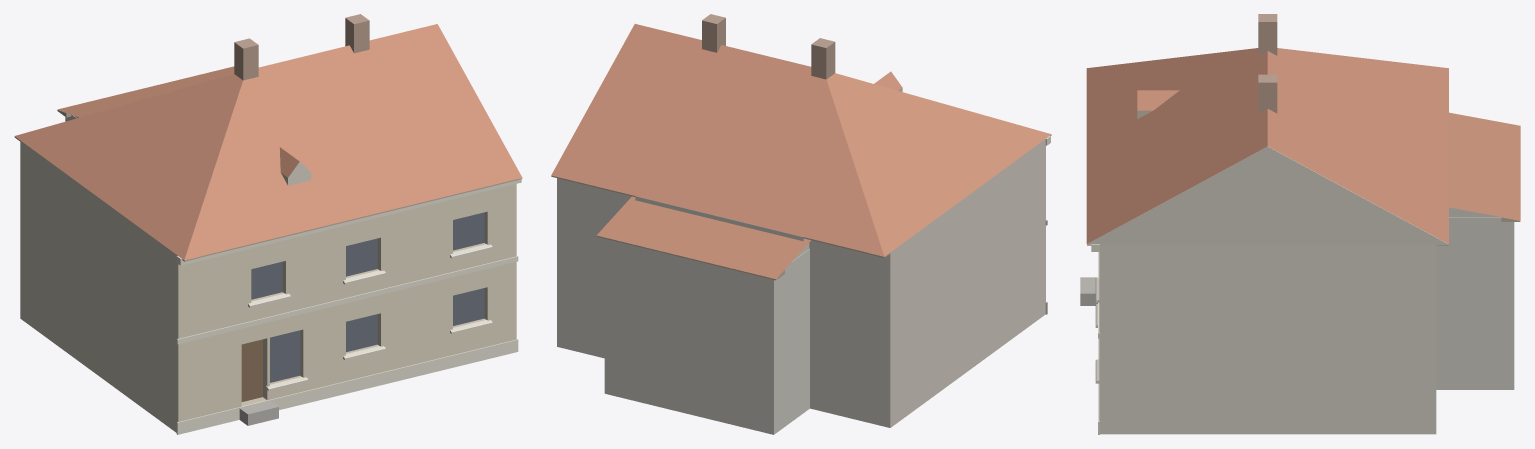
3 views of the same model, side by side, from view 1: azimuth 30°, elevation 25°; view 2: azimuth 150°, elevation 25°; view 3: azimuth 270°, elevation 25° (orthographic). The views are drawn at different scales.
Visible parts, largest first — view 1: CP_1833_Masonry, CP_1833_Roof, CP_1833_Cornice_plinth_0, CP_1833_Cornice_band_0, CP_1833_WingRoof_Rear_Stair, CP_1833_Cornice_main_0, CP_1833_Chimney_0, CP_1833_Chimney_1, CP_1833_Dormer_V1, CP_1833_Steps, CP_1833_Roof_EaveClosure_0; view 2: CP_1833_Roof, CP_1833_Masonry, CP_1833_Rear_Stair, CP_1833_WingRoof_Rear_Stair, CP_1833_Chimney_0, CP_1833_AtticClosure_1, CP_1833_Chimney_1; view 3: CP_1833_Masonry, CP_1833_Roof, CP_1833_Gable_R_gable, CP_1833_Rear_Stair, CP_1833_WingRoof_Rear_Stair, CP_1833_Chimney_0, CP_1833_Chimney_1, CP_1833_Dormer_V1, CP_1833_Steps.
Boxes of the visible parts, x1,y1,x2,y2 form: CP_1833_Masonry: (20, 140, 516, 432); CP_1833_Roof: (15, 24, 522, 260); CP_1833_Cornice_plinth_0: (176, 339, 518, 434); CP_1833_Cornice_band_0: (176, 256, 518, 344); CP_1833_WingRoof_Rear_Stair: (57, 66, 234, 117); CP_1833_Cornice_main_0: (176, 179, 521, 265); CP_1833_Chimney_0: (234, 38, 258, 80); CP_1833_Chimney_1: (345, 14, 369, 53); CP_1833_Dormer_V1: (279, 147, 311, 185); CP_1833_Steps: (239, 400, 278, 425); CP_1833_Roof_EaveClosure_0: (182, 178, 521, 261); CP_1833_Roof: (551, 24, 1051, 256); CP_1833_Masonry: (557, 139, 1045, 427); CP_1833_Rear_Stair: (604, 239, 809, 434); CP_1833_WingRoof_Rear_Stair: (596, 196, 810, 278); CP_1833_Chimney_0: (811, 38, 835, 79); CP_1833_AtticClosure_1: (635, 196, 809, 260); CP_1833_Chimney_1: (702, 14, 725, 52); CP_1833_Masonry: (1099, 244, 1436, 434); CP_1833_Roof: (1086, 48, 1448, 243); CP_1833_Gable_R_gable: (1087, 146, 1448, 244); CP_1833_Rear_Stair: (1436, 217, 1514, 389); CP_1833_WingRoof_Rear_Stair: (1449, 112, 1520, 220); CP_1833_Chimney_0: (1258, 14, 1277, 55); CP_1833_Chimney_1: (1258, 74, 1277, 113); CP_1833_Dormer_V1: (1137, 90, 1179, 118); CP_1833_Steps: (1080, 277, 1097, 305).
Bounding box in the file's own units: 13.21 × 11 × 13.86.
